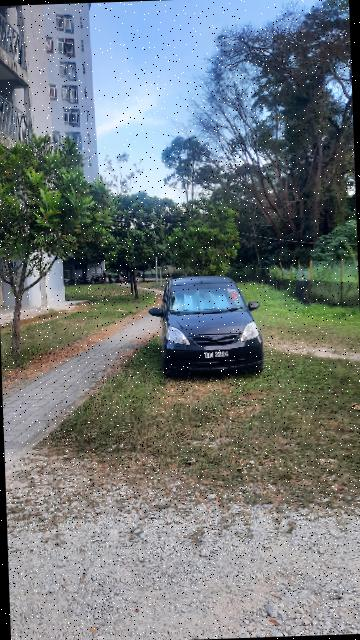License_Plate: (203, 350, 231, 363)
car: (149, 273, 270, 381)
